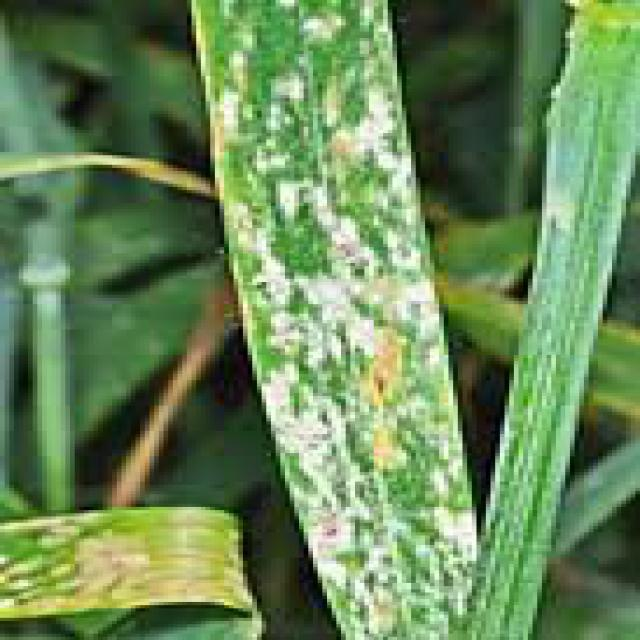wheat-powdery-mildew: (189, 0, 481, 640)
